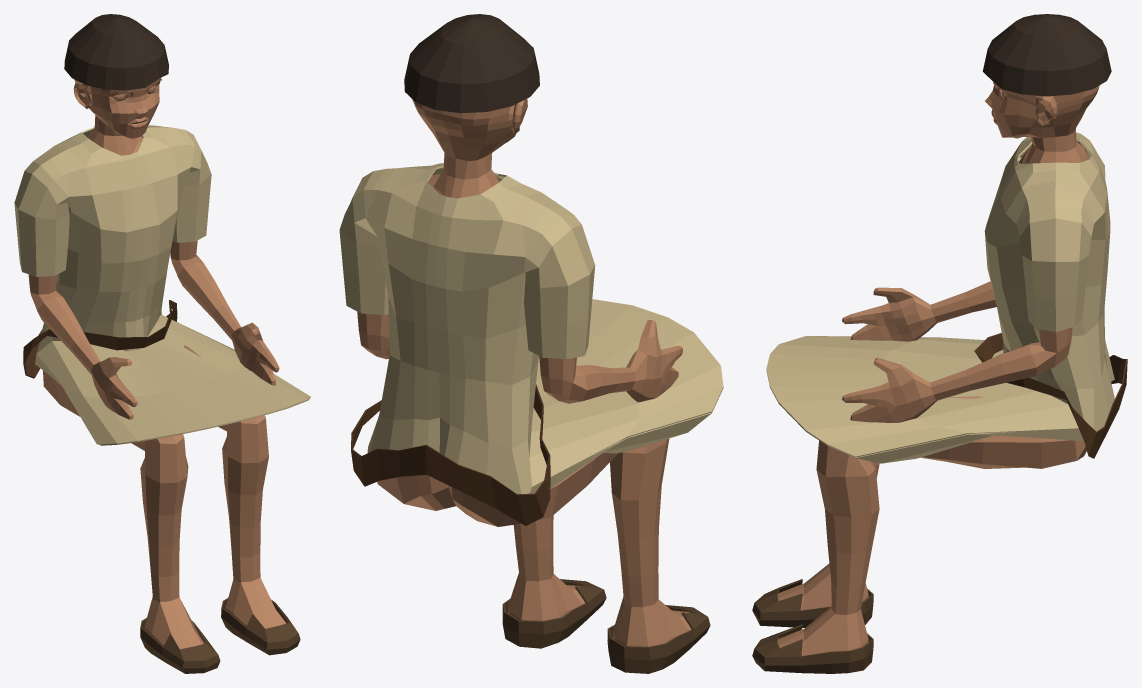
File: seated-spectator.glb
3 renders of one model, left to right at view 1: azimuth 30°, elevation 25°; view 2: azimuth 150°, elevation 25°; view 3: azimuth 270°, elevation 25°, orthographic. The views are drawn at different scales.
Visible parts, largest first — view 1: seated-spectator_RomanTunic, seated-spectator_CharacterBase, seated-spectator_HairCap, seated-spectator_RomanSandals, seated-spectator_LeatherBelt; view 2: seated-spectator_RomanTunic, seated-spectator_CharacterBase, seated-spectator_HairCap, seated-spectator_LeatherBelt, seated-spectator_RomanSandals; view 3: seated-spectator_RomanTunic, seated-spectator_CharacterBase, seated-spectator_HairCap, seated-spectator_RomanSandals, seated-spectator_LeatherBelt.
Part boxes in pixels (<box>): seated-spectator_RomanTunic: <box>14,125,310,445</box>; seated-spectator_CharacterBase: <box>28,78,286,649</box>; seated-spectator_HairCap: <box>64,14,168,90</box>; seated-spectator_RomanSandals: <box>140,598,300,673</box>; seated-spectator_LeatherBelt: <box>23,300,177,378</box>; seated-spectator_RomanTunic: <box>339,163,723,493</box>; seated-spectator_CharacterBase: <box>357,99,691,646</box>; seated-spectator_HairCap: <box>404,14,539,113</box>; seated-spectator_LeatherBelt: <box>351,384,550,525</box>; seated-spectator_RomanSandals: <box>502,579,710,673</box>; seated-spectator_RomanTunic: <box>766,132,1114,463</box>; seated-spectator_CharacterBase: <box>777,81,1099,656</box>; seated-spectator_HairCap: <box>982,14,1111,96</box>; seated-spectator_RomanSandals: <box>752,579,873,673</box>; seated-spectator_LeatherBelt: <box>974,333,1127,458</box>.
Bounding box in the file's own units: 0.5365 × 1.41 × 0.7669.
